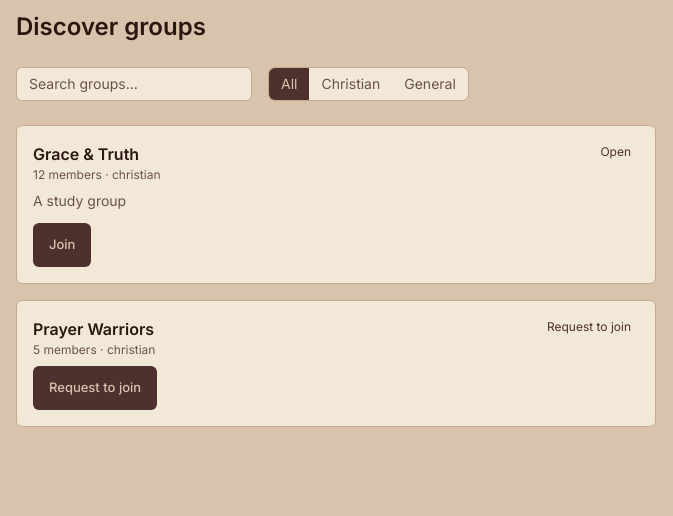
Test: DiscoverPage › Request to join button surfaces optional message field
Click the button "Request to join": (95, 388) 33,366 -> 157,410
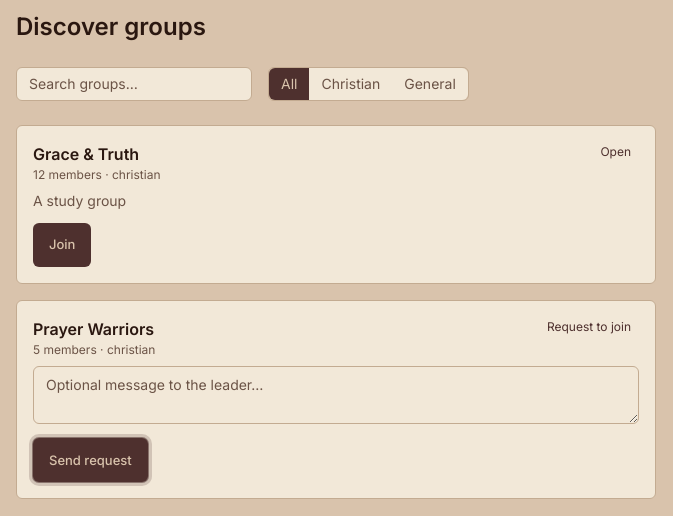
Now the text box with placeholder "Optional message to the leader…" is shown, box 33,366 -> 639,424
